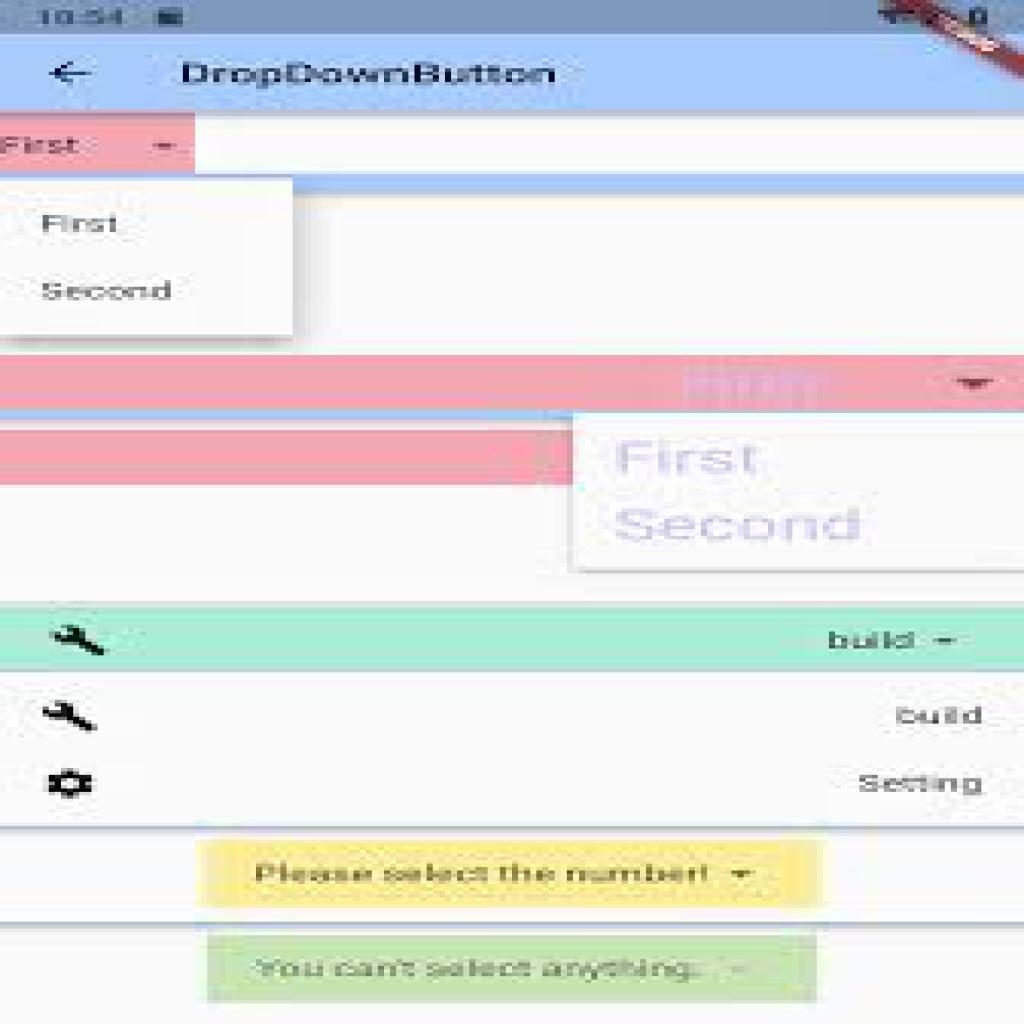button: (207, 934, 818, 1005)
dropdown: (208, 843, 824, 904), (677, 356, 1024, 410), (794, 608, 993, 671), (1, 117, 196, 171)
